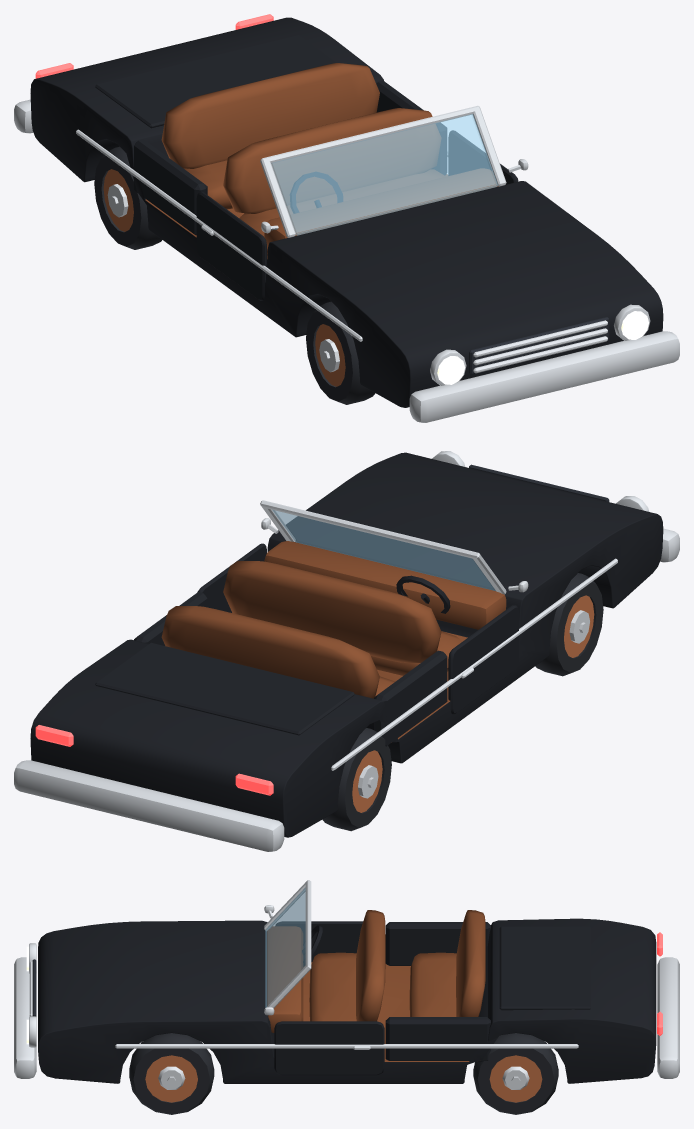
The model's file is carro_antigo_preto.glb.
The picture shows the model from 3 angles, top to bottom: view 1: azimuth 30°, elevation 25°; view 2: azimuth 150°, elevation 25°; view 3: azimuth 270°, elevation 25°; orthographic projection. The views are drawn at different scales.
Parts seen in each view (by area): view 1: carro_antigo_preto, porta_malas_1, porta_1, roda_1, roda_2, porta_2; view 2: carro_antigo_preto, porta_malas_1, porta_1, roda_2, roda_1, porta_2; view 3: carro_antigo_preto, porta_malas_1, porta_2, roda_3, roda_4, porta_1.
Boxes of the visible parts, box(x1,y1,x2,y2) form: carro_antigo_preto: box(14, 14, 679, 422); porta_malas_1: box(95, 35, 336, 128); porta_1: box(196, 192, 266, 300); roda_1: box(306, 301, 375, 404); roda_2: box(94, 146, 161, 249); porta_2: box(448, 130, 518, 184); carro_antigo_preto: box(14, 451, 679, 851); porta_malas_1: box(95, 642, 354, 735); porta_1: box(448, 605, 518, 714); roda_2: box(322, 728, 391, 831); roda_1: box(535, 573, 603, 676); porta_2: box(197, 543, 266, 612); carro_antigo_preto: box(14, 880, 679, 1083); porta_malas_1: box(499, 926, 590, 1010); porta_2: box(274, 1021, 384, 1075); roda_3: box(129, 1033, 214, 1114); roda_4: box(473, 1033, 558, 1114); porta_1: box(275, 921, 363, 962).
Bounding box in the file's own units: 1.98 × 1.28 × 5.32.
Materials: 4 (1 with a texture image).
